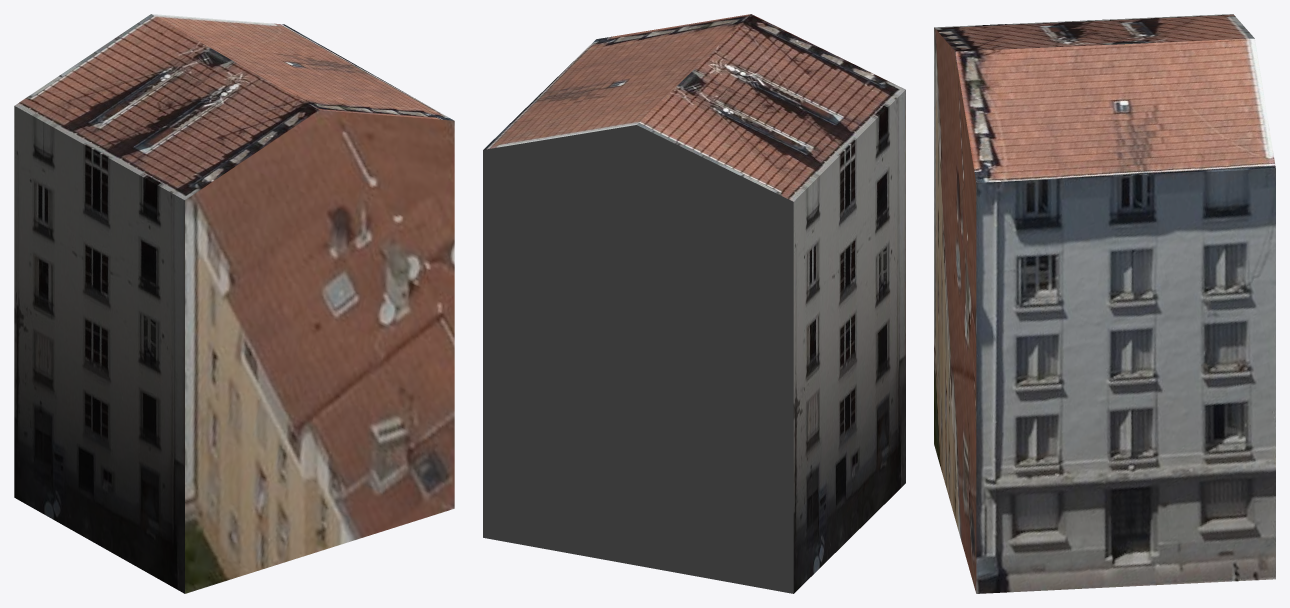
3 renders of one model, left to right at view 1: azimuth 30°, elevation 25°; view 2: azimuth 150°, elevation 25°; view 3: azimuth 270°, elevation 25°, orthographic. The views are drawn at different scales.
Parts seen in each view (by area): view 1: Z_UP; view 2: Z_UP; view 3: Z_UP.
Part boxes in pixels (x1,y1,x2,y2): Z_UP: (14, 14, 454, 593); Z_UP: (483, 14, 905, 593); Z_UP: (934, 14, 1275, 593).
Size of the model in its own units: 14.48 by 19.15 by 12.7.
2 materials, 1 textured.
